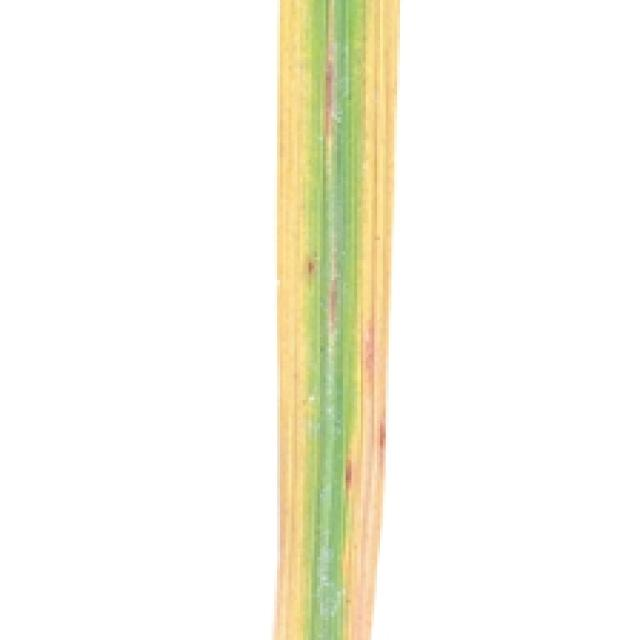Rice___Bacterial_Leaf_Blight: (273, 0, 403, 637)
